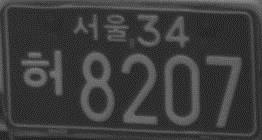0: (162, 54, 201, 127)
2: (120, 53, 160, 126)
3: (135, 11, 161, 49)
4: (164, 14, 190, 50)
7: (204, 53, 243, 128)
8: (78, 52, 116, 123)
서울_O: (73, 13, 129, 45)
허: (19, 49, 65, 98)
